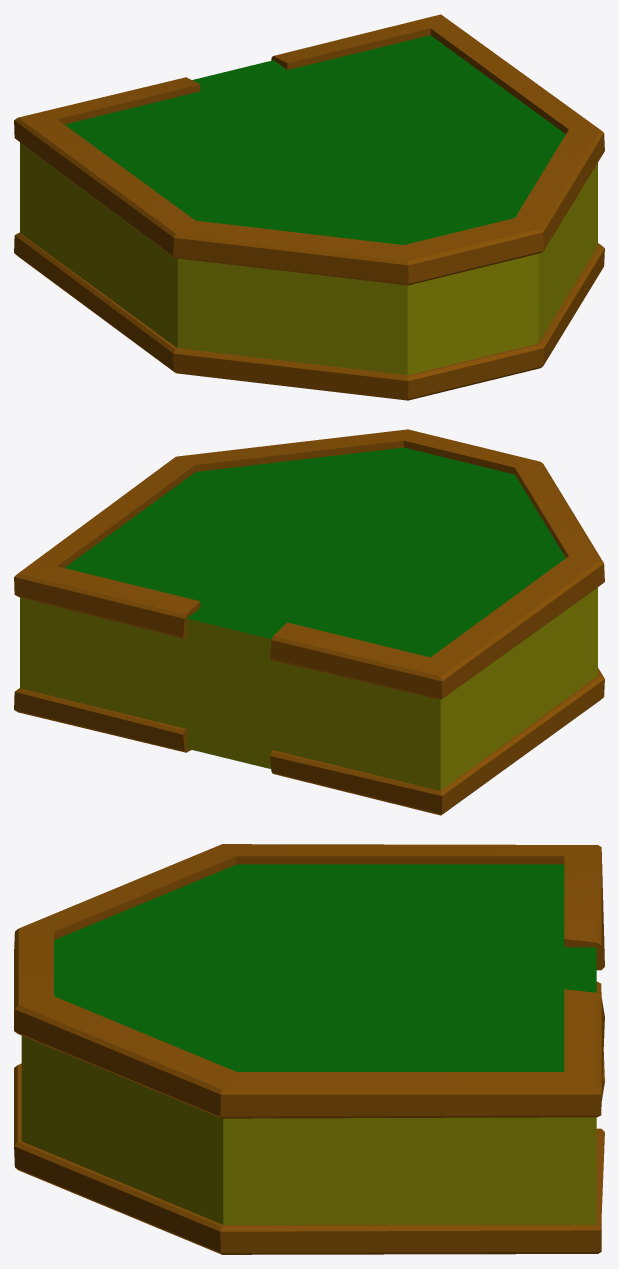
The picture shows the model from 3 angles, top to bottom: view 1: azimuth 30°, elevation 25°; view 2: azimuth 150°, elevation 25°; view 3: azimuth 270°, elevation 25°; orthographic projection. The views are drawn at different scales.
Visible parts, largest first — view 1: polySurface176, polySurface173, polySurface175; view 2: polySurface176, polySurface175, polySurface173; view 3: polySurface176, polySurface173, polySurface175.
Part boxes in pixels (<box>): polySurface176: <box>64,35,565,244</box>; polySurface173: <box>14,14,604,400</box>; polySurface175: <box>20,142,597,375</box>; polySurface176: <box>65,447,565,768</box>; polySurface175: <box>20,587,597,790</box>; polySurface173: <box>14,429,604,815</box>; polySurface176: <box>54,864,596,1071</box>; polySurface173: <box>14,844,604,1254</box>; polySurface175: <box>21,1036,596,1224</box>.
Bounding box in the file's own units: 913 × 292 × 914.
